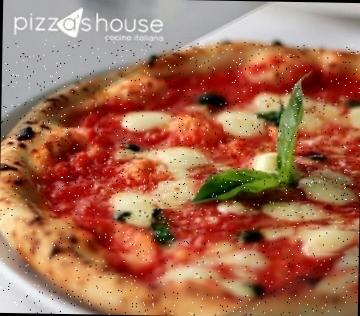Basil: (192, 170, 298, 207), (278, 72, 308, 172), (152, 210, 174, 244)
Cheese: (116, 193, 158, 225), (308, 231, 359, 255), (260, 96, 326, 113), (158, 181, 192, 208), (224, 112, 262, 136), (308, 178, 346, 201), (168, 148, 193, 181), (305, 113, 360, 128), (272, 203, 315, 218), (128, 113, 162, 129), (256, 156, 278, 173)
Pizza: (0, 38, 360, 316)
